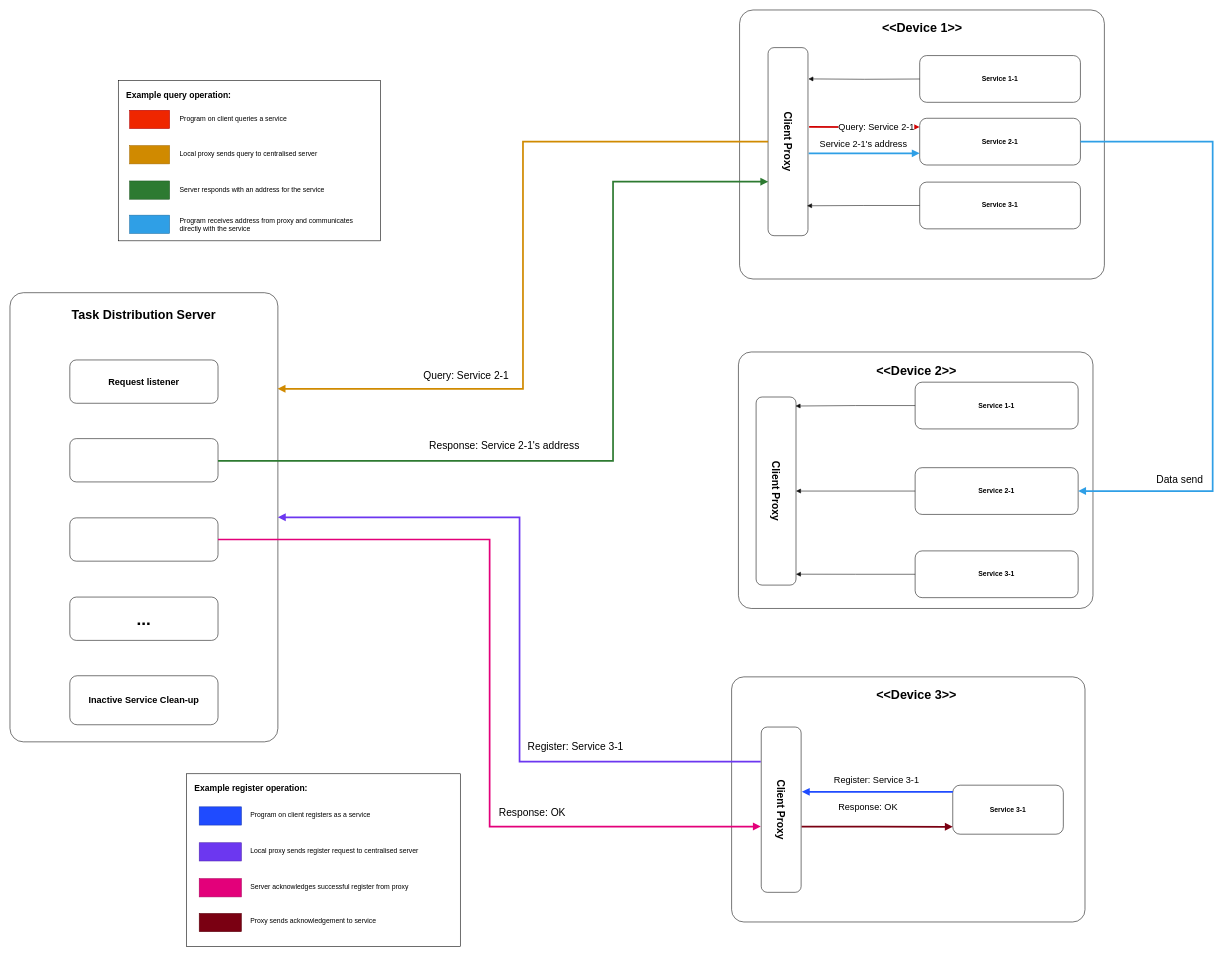
This 1228x956 diagram has some shape labels left out. The centre of each missing label's shape, as x and y in pixels:
"Active resolver thread 1" belongs at point 143,460.
"Active resolver thread 2" belongs at point 143,539.
